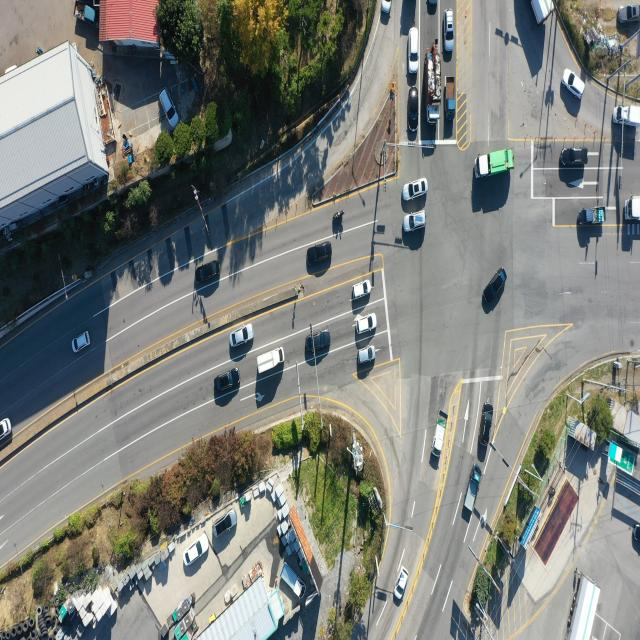car: (482, 268, 507, 311), (161, 87, 179, 127), (186, 536, 209, 566), (562, 69, 584, 99), (213, 369, 239, 394), (213, 509, 235, 538), (305, 331, 332, 354), (228, 325, 252, 350), (560, 146, 587, 168), (481, 404, 495, 446), (197, 260, 221, 284), (404, 181, 428, 204), (409, 88, 421, 133), (306, 241, 330, 263), (410, 27, 421, 73), (404, 211, 427, 233), (355, 313, 377, 335), (618, 4, 640, 24), (351, 279, 371, 301), (394, 569, 407, 602), (72, 333, 90, 356), (446, 11, 455, 52), (356, 346, 374, 366), (0, 418, 12, 446), (381, 0, 392, 17), (632, 525, 640, 547), (428, 0, 438, 7)
medium_truck: (564, 577, 600, 640), (476, 146, 514, 178), (425, 45, 439, 126), (529, 0, 555, 26), (624, 195, 640, 223)
small_truck: (462, 466, 481, 515), (257, 346, 285, 378), (282, 563, 304, 596), (433, 412, 448, 460), (74, 0, 98, 26), (615, 106, 640, 130), (581, 207, 606, 226), (447, 78, 457, 118)
